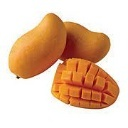mango: (8, 12, 68, 80)
